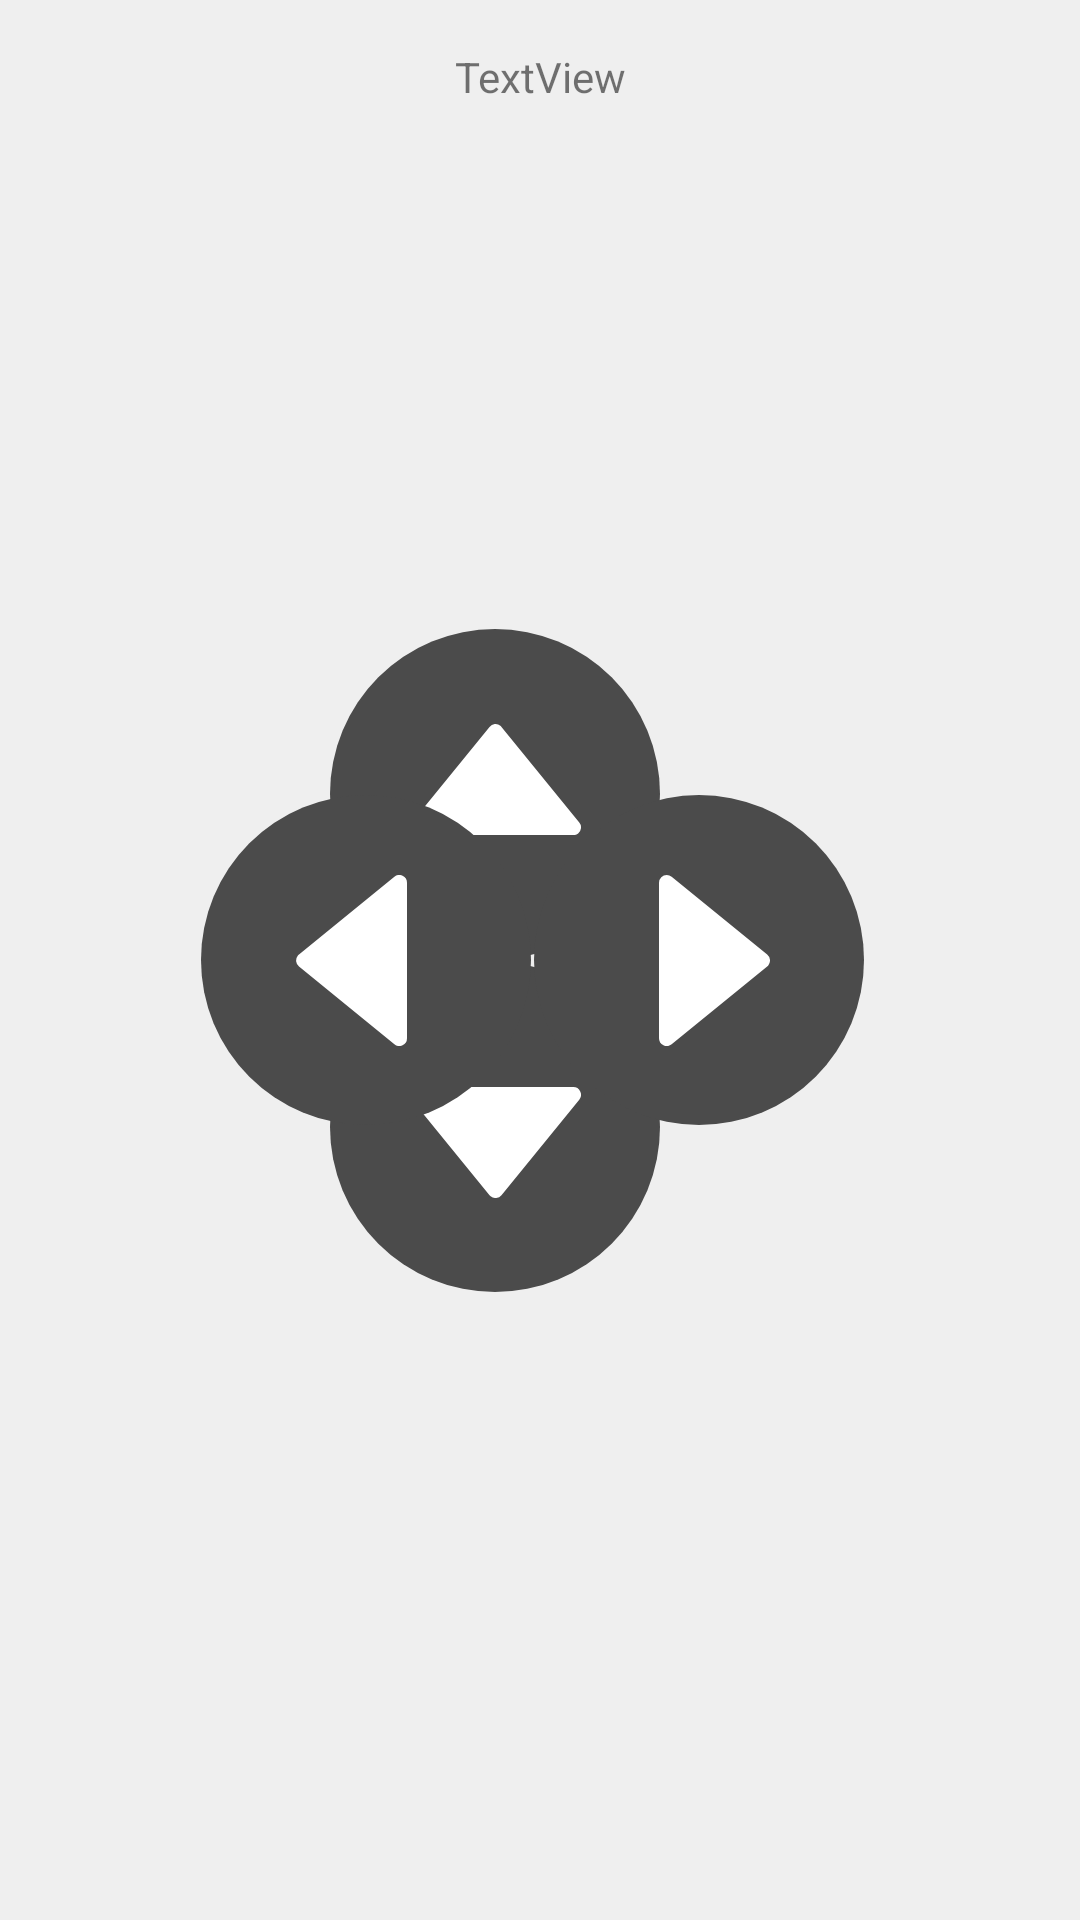

Icon click points for this 1080 × 1920 phone screenshot, format [x,y]:
downside: [495,1127]
right side: [699,960]
